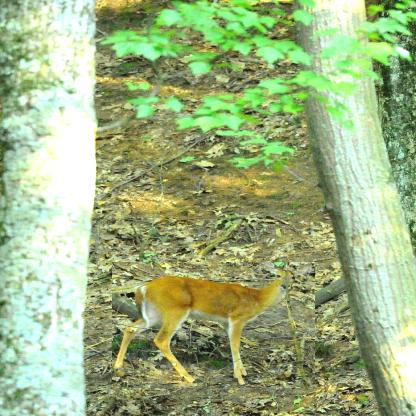Deer: (112, 262, 315, 388)
